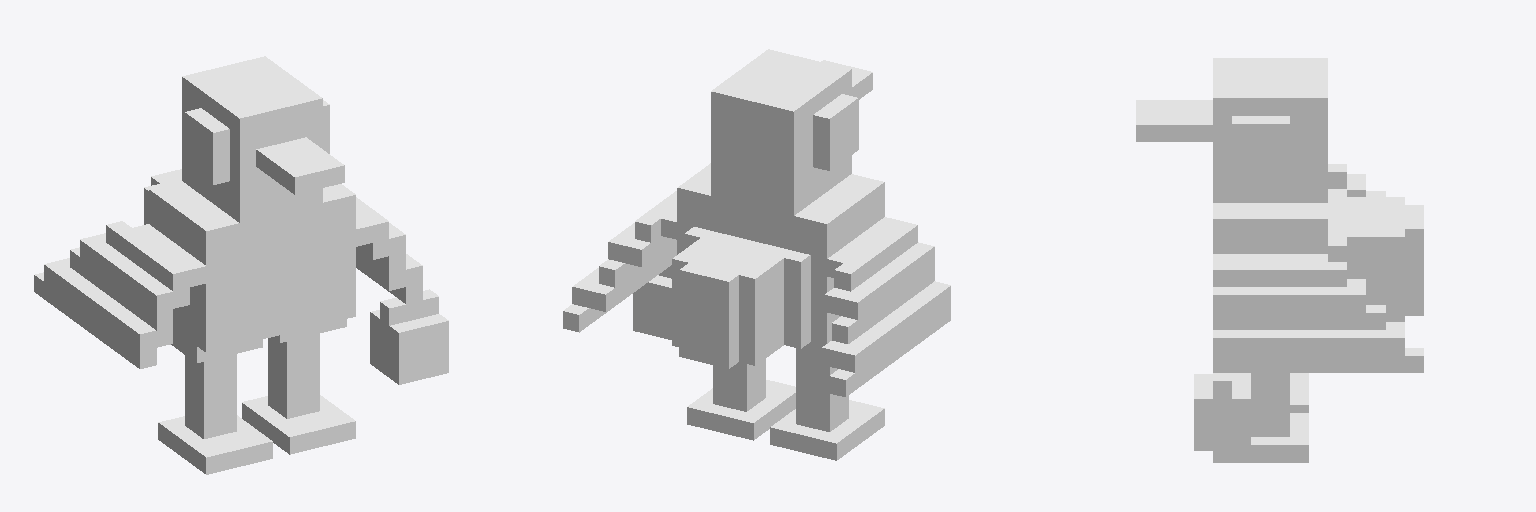
File: kaczka.obj
3 views of the same model, side by side, from view 1: azimuth 30°, elevation 25°; view 2: azimuth 150°, elevation 25°; view 3: azimuth 270°, elevation 25° (orthographic).
Bounding box in the file's own units: 18 × 20 × 15.